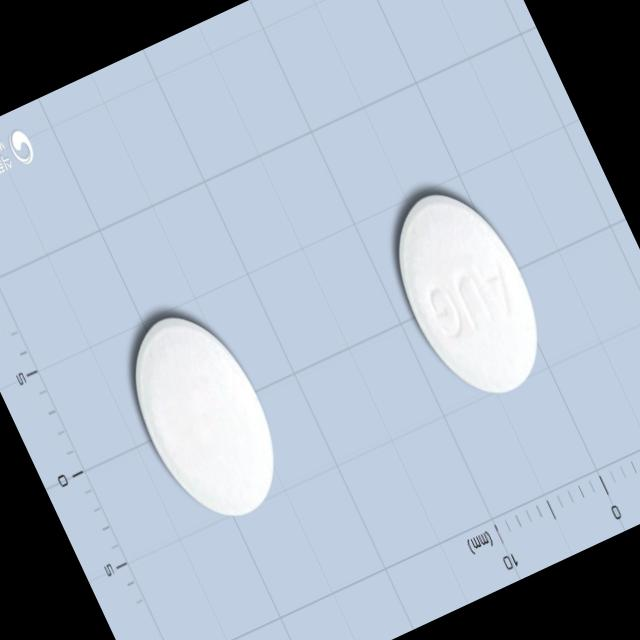Ilsung Augmentin - 625mg: (106, 296, 302, 541), (370, 174, 564, 416)
